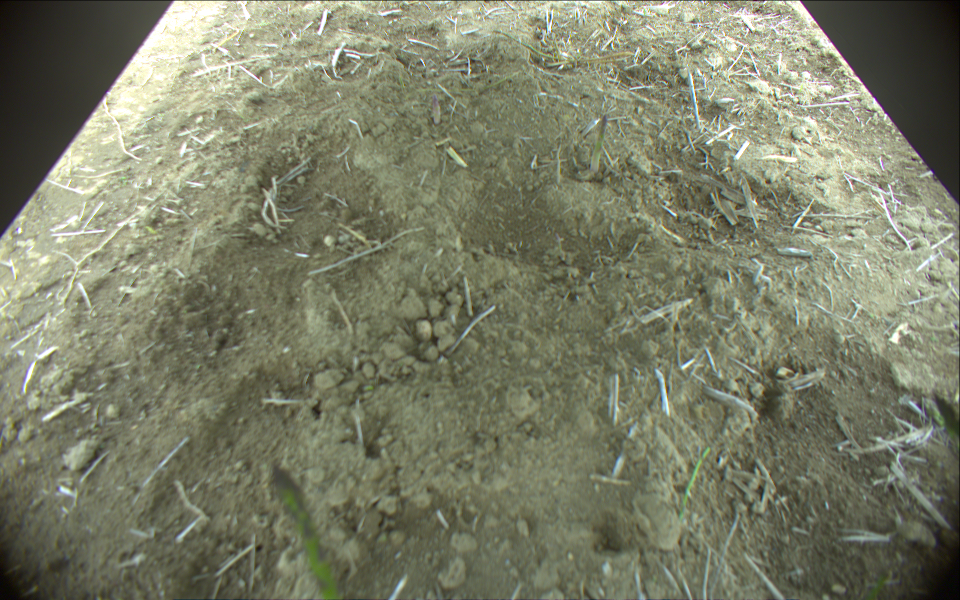aspa: (268, 467, 350, 600), (590, 113, 610, 174)
